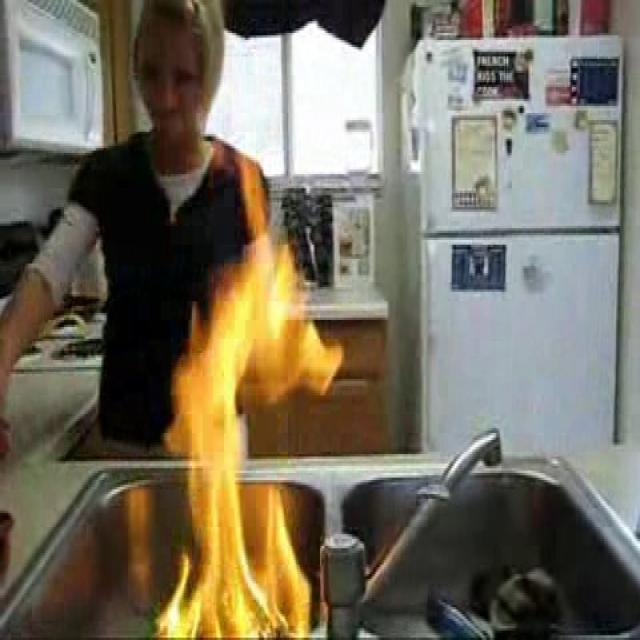Fire: (162, 228, 348, 635)
